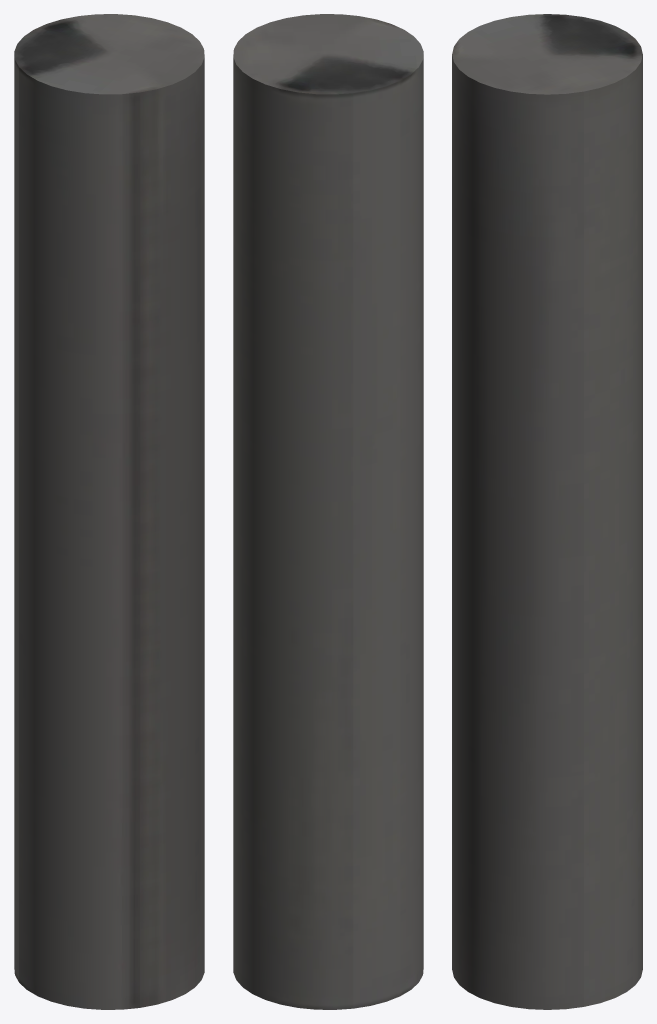
Rendered from seat__hinge_barrel.glb.
The picture shows the model from 3 angles, left to right: view 1: azimuth 30°, elevation 25°; view 2: azimuth 150°, elevation 25°; view 3: azimuth 270°, elevation 25°; orthographic projection.
Parts seen in each view (by area): view 1: geometry_0; view 2: geometry_0; view 3: geometry_0.
Boxes of the visible parts, left/top/right/bottom form: geometry_0: left=14, top=14, right=204, bottom=1009; geometry_0: left=233, top=14, right=423, bottom=1009; geometry_0: left=452, top=14, right=642, bottom=1009.
Size of the model in its own units: 0.034 by 0.18 by 0.034.
1 material, 1 textured.
